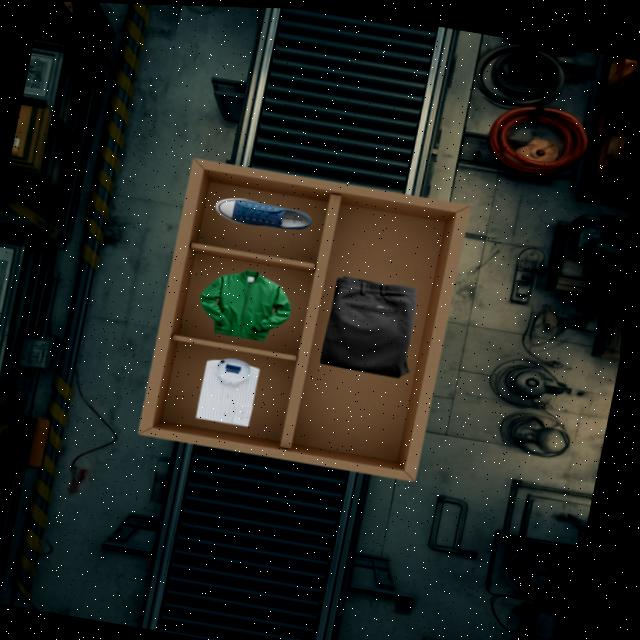jacket: (201, 270, 291, 342)
shirt: (197, 359, 260, 427)
sneaker: (216, 198, 312, 229)
trousers: (321, 276, 417, 378)
